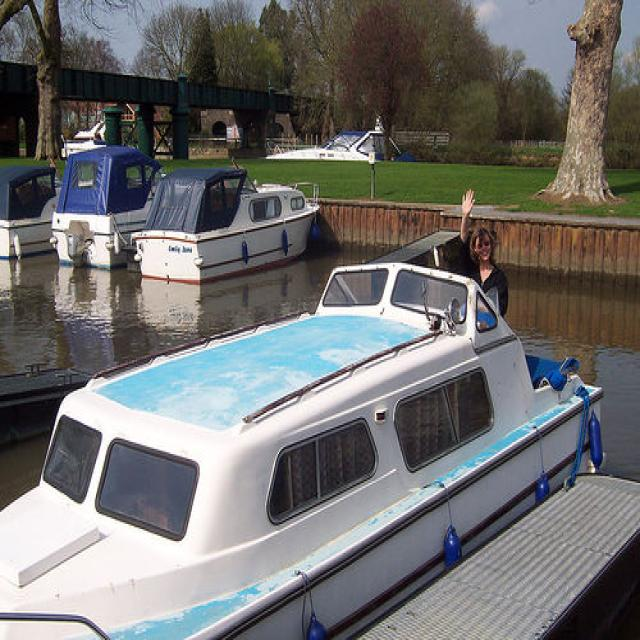boat: (1, 264, 604, 639), (133, 165, 321, 298), (47, 148, 162, 267), (1, 165, 57, 259), (266, 128, 402, 162), (60, 117, 107, 153)
person: (458, 187, 510, 312)
